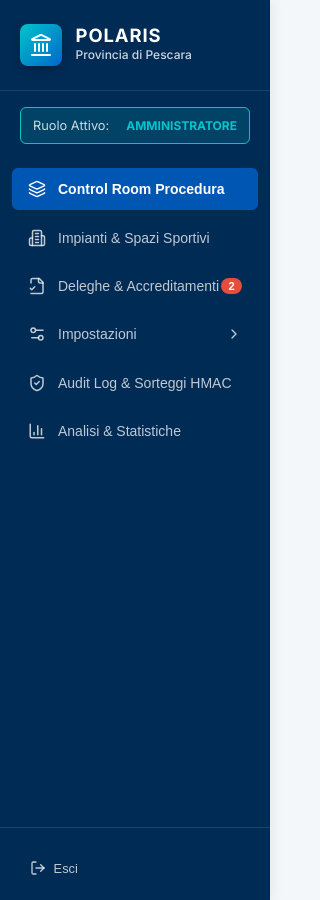
Scenario: Sidebar › admin: click sul gruppo Impostazioni lo apre e mostra tutte le voci figlie
The width and height of the screenshot is (320, 900).
Click the button "Impostazioni" at (135, 334), box [12,313,258,355]
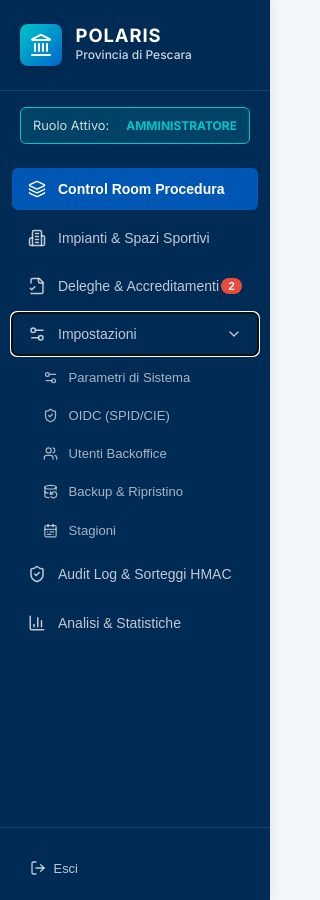
Now the text "Parametri di Sistema" is shown, box [69,370,190,385]
Now the text "OIDC (SPID/CIE)" is shown, box [69,408,170,423]
Now the text "Utenti Backoffice" is shown, box [69,446,167,461]
